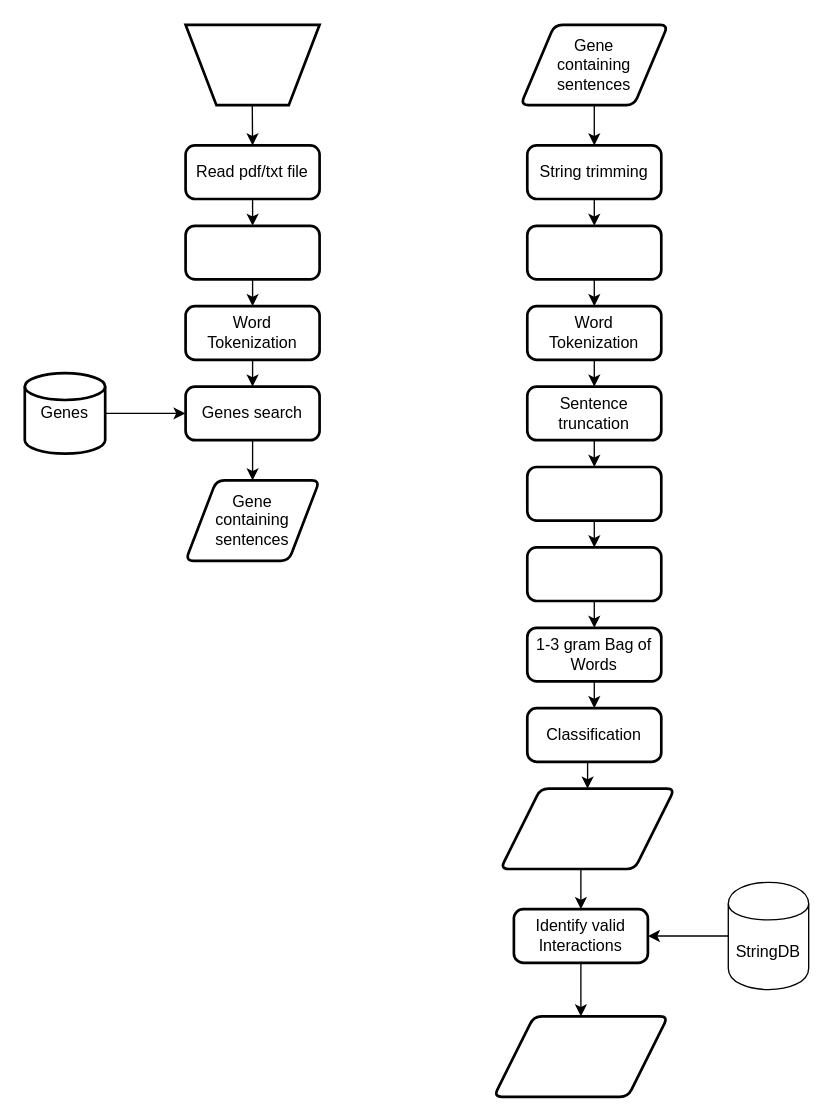
Image size: 832x1120. Some labels were removed from this diagram. Here are the shapes that lost their labels. From the top down, the centre of each, then its label:
At [252,64]: "Upload Paper".
At [252,252]: "Sentence Segmentation".
At [593,252]: "Lower case".
At [593,493]: "Stop words removal".
At [593,573]: "Stemming".
At [586,828]: "Identified Interactions".
At [580,1055]: "Backend Response".
